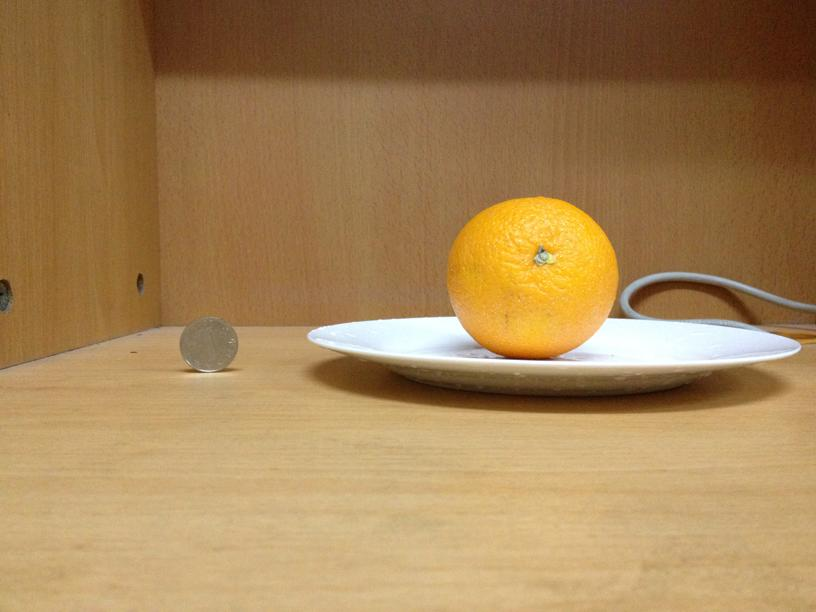coin: (178, 314, 239, 371)
orange: (447, 194, 617, 356)
